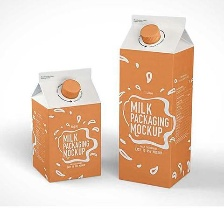carton: (115, 6, 209, 193), (29, 63, 104, 187)
